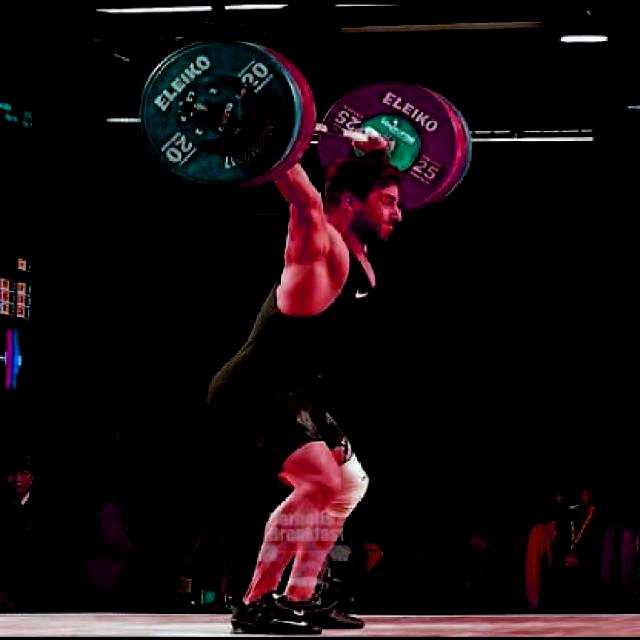barbell: (121, 29, 325, 201)
